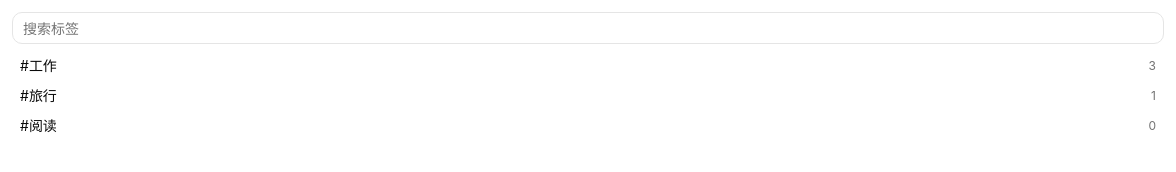
Test case: TagPicker › 输入过滤未选标签
In the field labelled "搜索标签": (588, 28) [12, 12, 1164, 44], type "旅行"
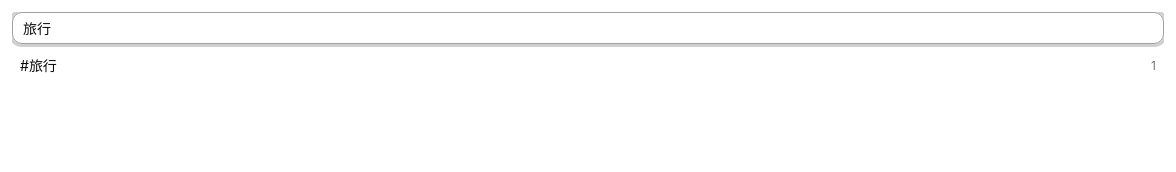
Check: the text "#旅行" is shown, box [20, 56, 57, 76]
Check: the button "#工作" is gone
